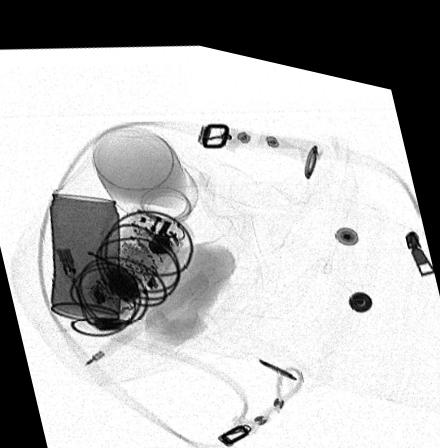Bullet: (257, 345, 295, 365)
